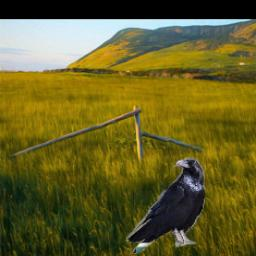Crow: (126, 158, 205, 255)
